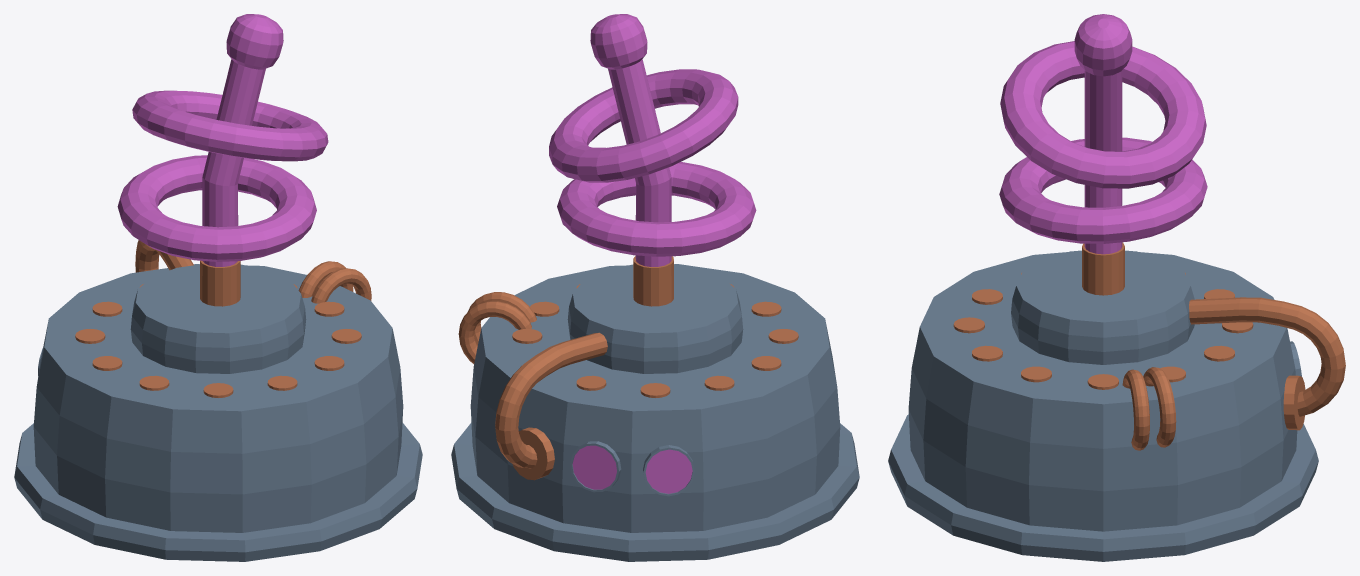
The model's file is Gravity_Well_10.fbx.
3 renders of one model, left to right at view 1: azimuth 30°, elevation 25°; view 2: azimuth 150°, elevation 25°; view 3: azimuth 270°, elevation 25°, orthographic. The views are drawn at different scales.
Visible parts, largest first — view 1: SmallCord2; view 2: SmallCord2; view 3: SmallCord2.
Part boxes in pixels (x1,y1,x2,y2): SmallCord2: (14,14,422,561); SmallCord2: (451,14,859,561); SmallCord2: (888,14,1345,561).
Bounding box in the file's own units: 626 × 757 × 665.
